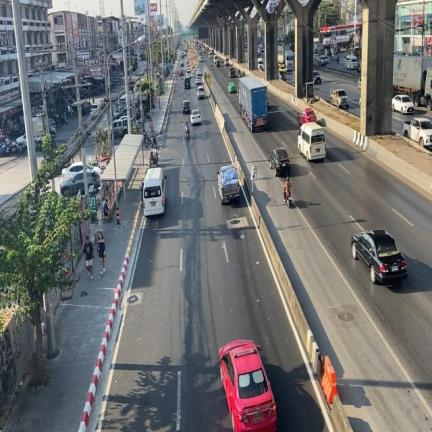car: (352, 230, 407, 283), (269, 148, 290, 176), (60, 171, 83, 196), (62, 162, 82, 182), (392, 94, 413, 113), (86, 163, 101, 176), (88, 171, 99, 188), (191, 110, 200, 124), (197, 86, 205, 98), (182, 101, 189, 113), (286, 63, 293, 72)
human: (83, 236, 92, 279), (97, 233, 105, 275), (284, 177, 290, 201)
motorbike: (150, 150, 158, 167), (284, 192, 292, 208), (151, 135, 157, 148), (185, 130, 189, 139)
pickup: (402, 117, 431, 146), (217, 165, 239, 203), (331, 88, 349, 108)
taxi: (219, 340, 276, 431), (299, 108, 316, 125)
truck: (394, 56, 431, 109), (239, 76, 267, 131), (278, 45, 293, 71)
van: (142, 167, 165, 215), (298, 122, 325, 160)
